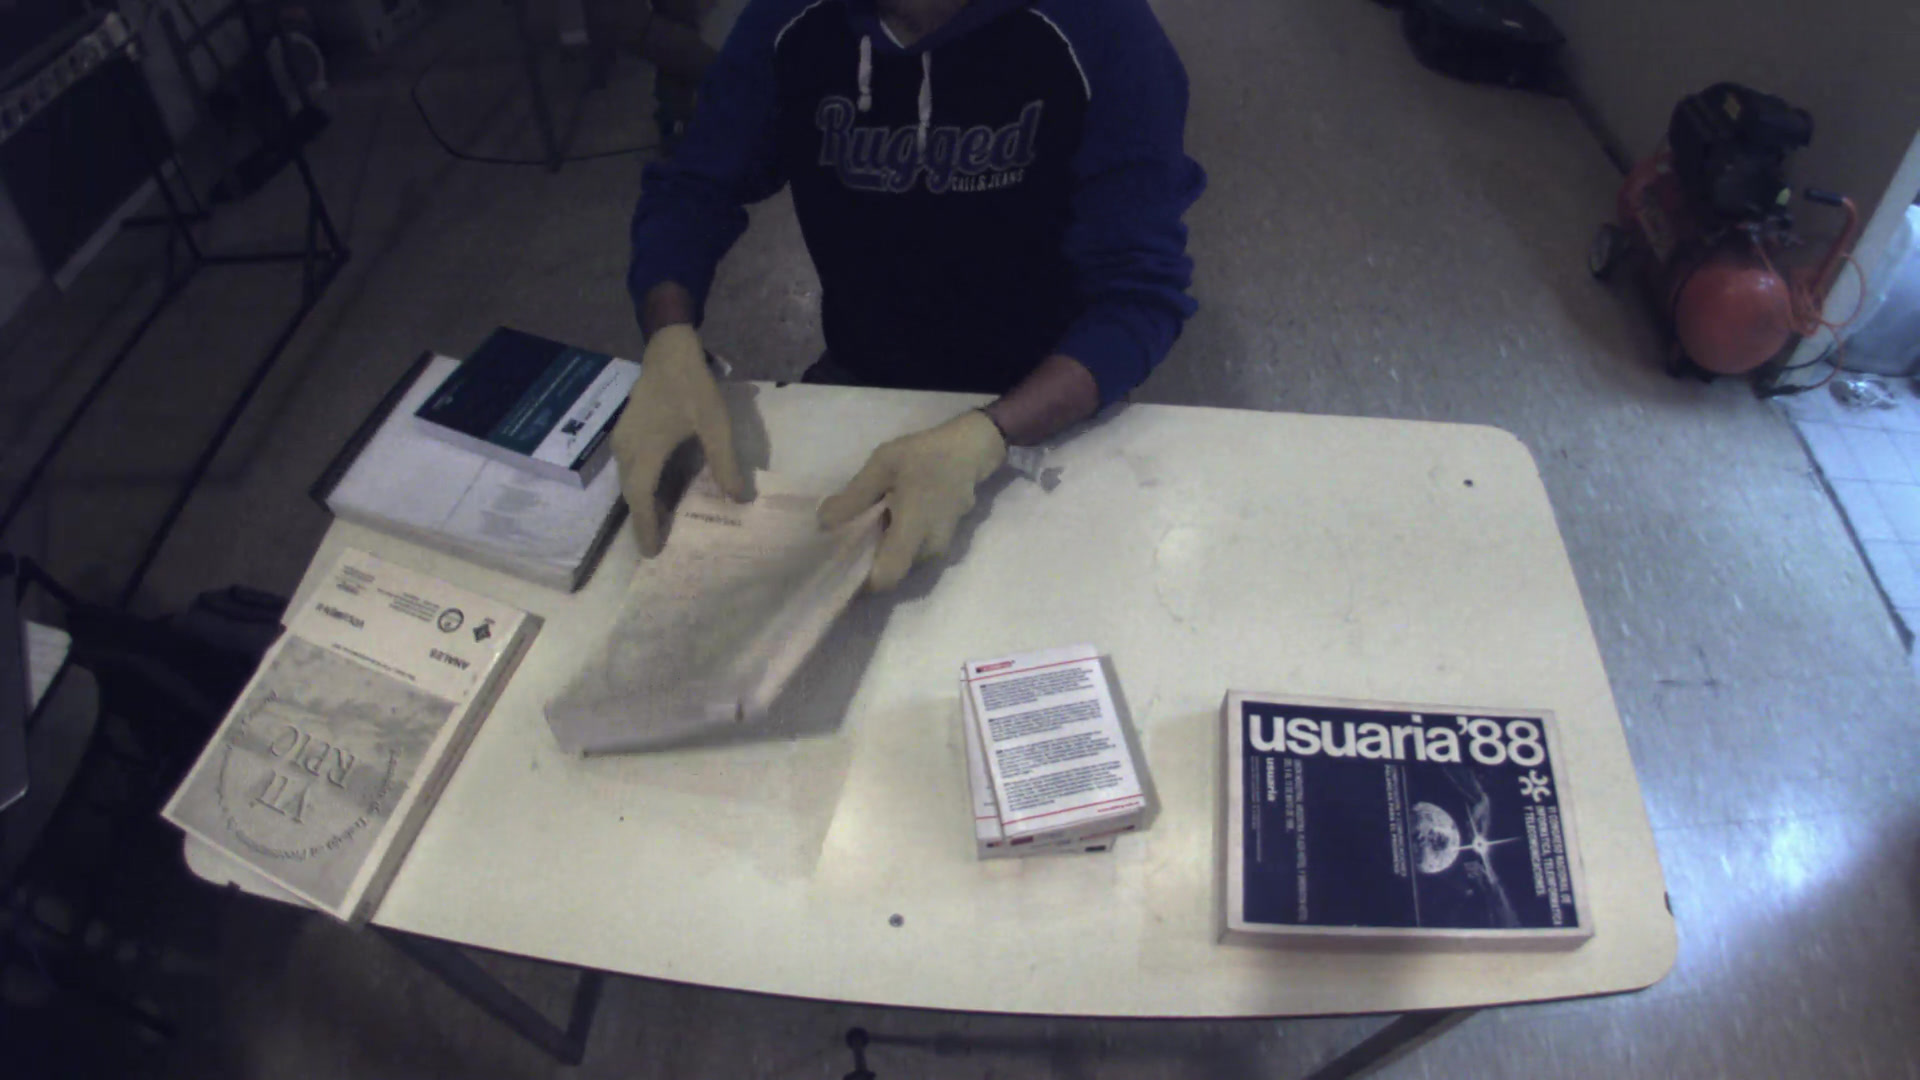hand: (814, 396, 1015, 585), (601, 323, 756, 556)
